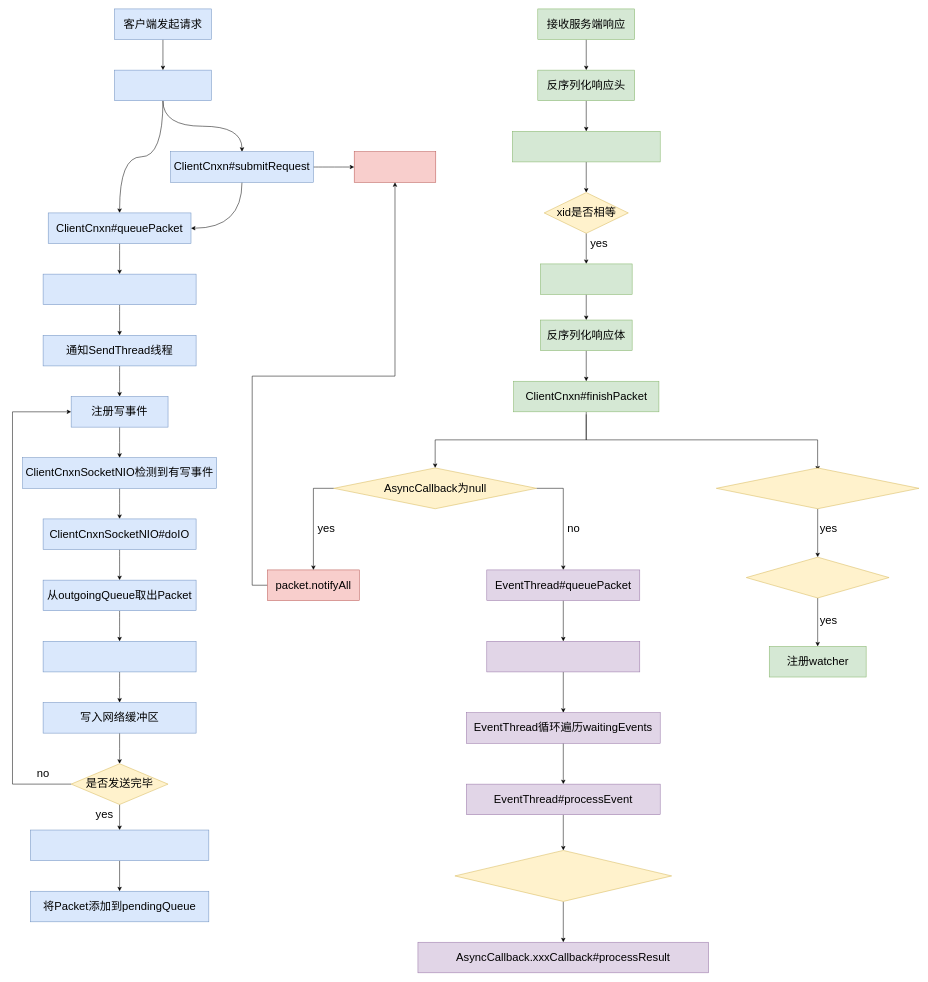
The diagram is 928 pixels wide and 982 high, and some of its shapes have lost their labels. The shapes that lost their labels are listed below. From the top down, each one's centre as x and y in pixels, then its label:
point (162, 85): 构建协议
point (395, 166): packet.wait
point (586, 146): 从 pendingQueue取出Packet
point (119, 289): outgoingQueue.add(packet)
point (586, 279): 填充响应头
point (817, 488): watchRegistration不为为空
point (817, 577): rc==OK
point (119, 656): 序列化Packet
point (563, 656): waitingEvents.add(packet)
point (119, 845): 从outgoingQueue删除Packet
point (563, 875): event instanceof Packet
